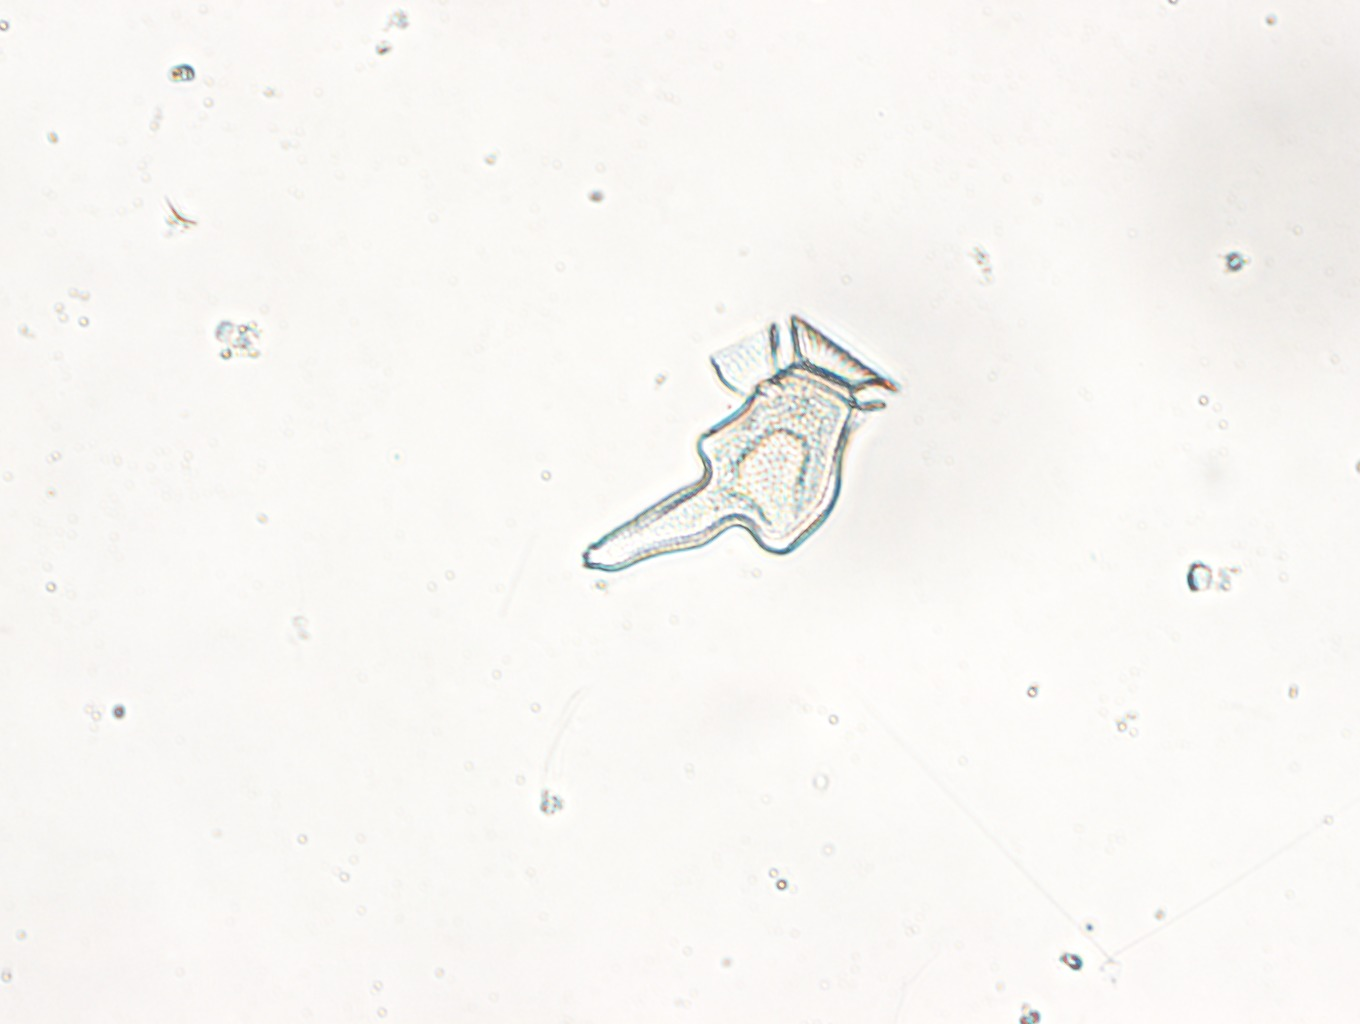dinophysis caudata: (567, 307, 905, 583)
